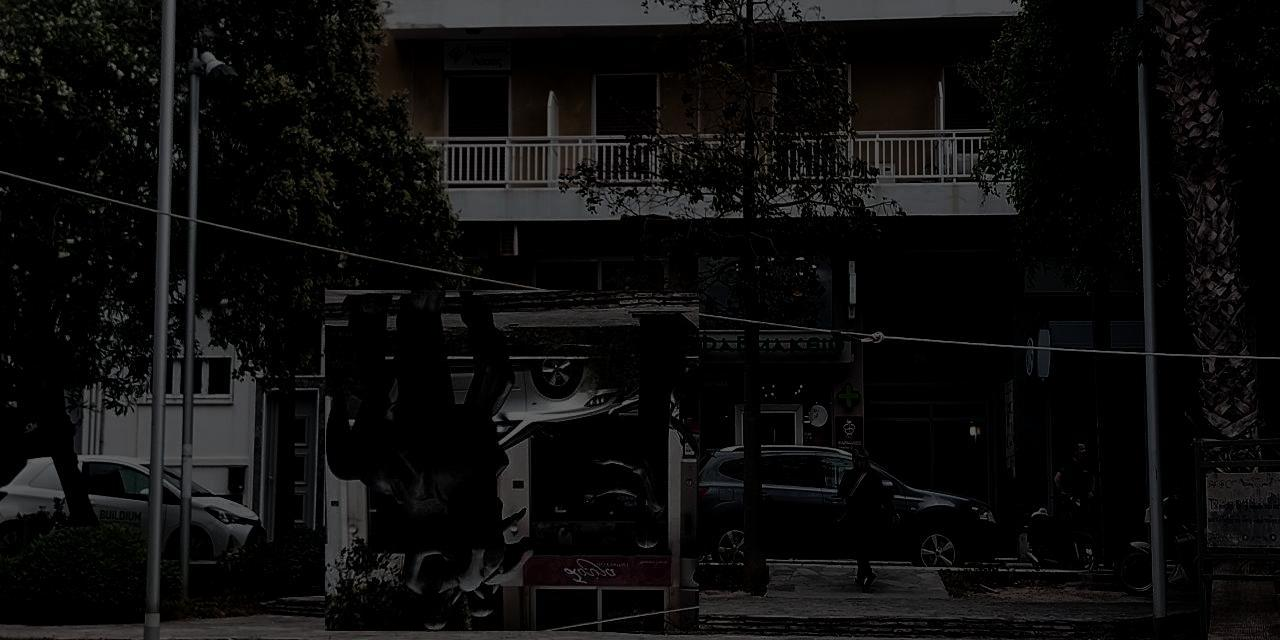Aretousa: (326, 291, 700, 632)
